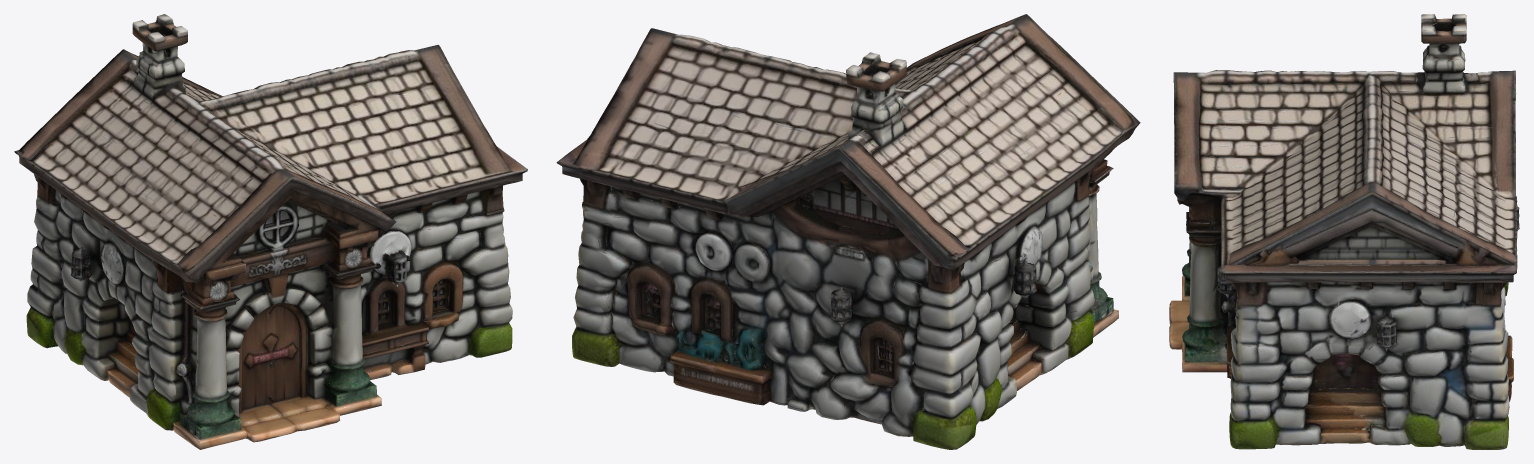
The model's file is Dwarven Building #1_final.glb.
The picture shows the model from 3 angles, left to right: view 1: azimuth 30°, elevation 25°; view 2: azimuth 150°, elevation 25°; view 3: azimuth 270°, elevation 25°; orthographic projection. The views are drawn at different scales.
Bounding box in the file's own units: 1.91 × 1.49 × 1.54.
Materials: 1 (1 with a texture image).
